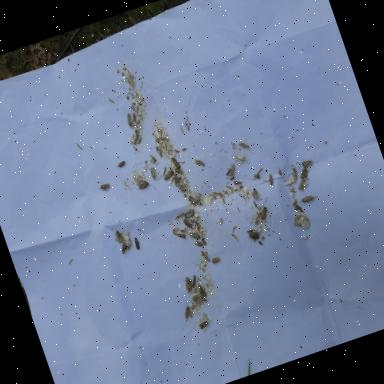pbw: (236, 138, 252, 154), (298, 192, 319, 204), (118, 238, 132, 255), (292, 200, 306, 215), (125, 70, 136, 88), (136, 179, 152, 191), (162, 169, 176, 182), (170, 154, 181, 170), (125, 109, 135, 126), (258, 206, 270, 220), (298, 166, 310, 180), (188, 230, 201, 242), (296, 178, 308, 191), (248, 231, 262, 242), (98, 182, 112, 193), (182, 305, 193, 319), (189, 274, 199, 288), (228, 162, 238, 176), (194, 156, 205, 168), (183, 217, 193, 230), (115, 228, 125, 241), (149, 166, 158, 180), (186, 278, 195, 292), (114, 160, 126, 170), (302, 158, 314, 168), (164, 137, 172, 151), (133, 236, 141, 250), (198, 320, 210, 329), (252, 187, 260, 200), (176, 231, 186, 241), (194, 238, 204, 248), (174, 166, 184, 176), (292, 168, 300, 180), (246, 227, 258, 235), (266, 173, 274, 185), (291, 170, 298, 182), (211, 256, 221, 264), (175, 213, 186, 220), (201, 250, 208, 260), (234, 178, 242, 186), (150, 154, 156, 162), (182, 146, 188, 152), (174, 148, 180, 153)
